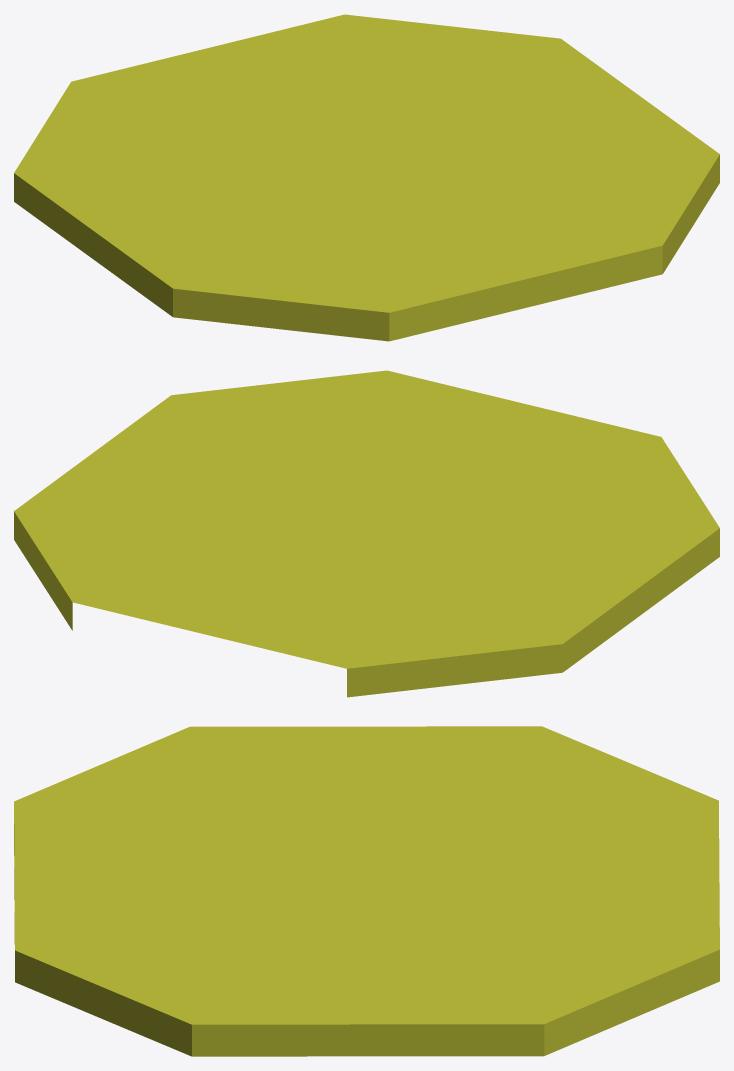
Rendered from stand.glb.
3 renders of one model, top to bottom at view 1: azimuth 30°, elevation 25°; view 2: azimuth 150°, elevation 25°; view 3: azimuth 270°, elevation 25°, orthographic. The views are drawn at different scales.
Visible parts, largest first — view 1: Test Stand; view 2: Test Stand; view 3: Test Stand.
Boxes of the visible parts, x1,y1,x2,y2 form: Test Stand: [14, 14, 719, 341]; Test Stand: [14, 370, 719, 697]; Test Stand: [14, 726, 719, 1056].
Bounding box in the file's own units: 2 × 0.1 × 2.
